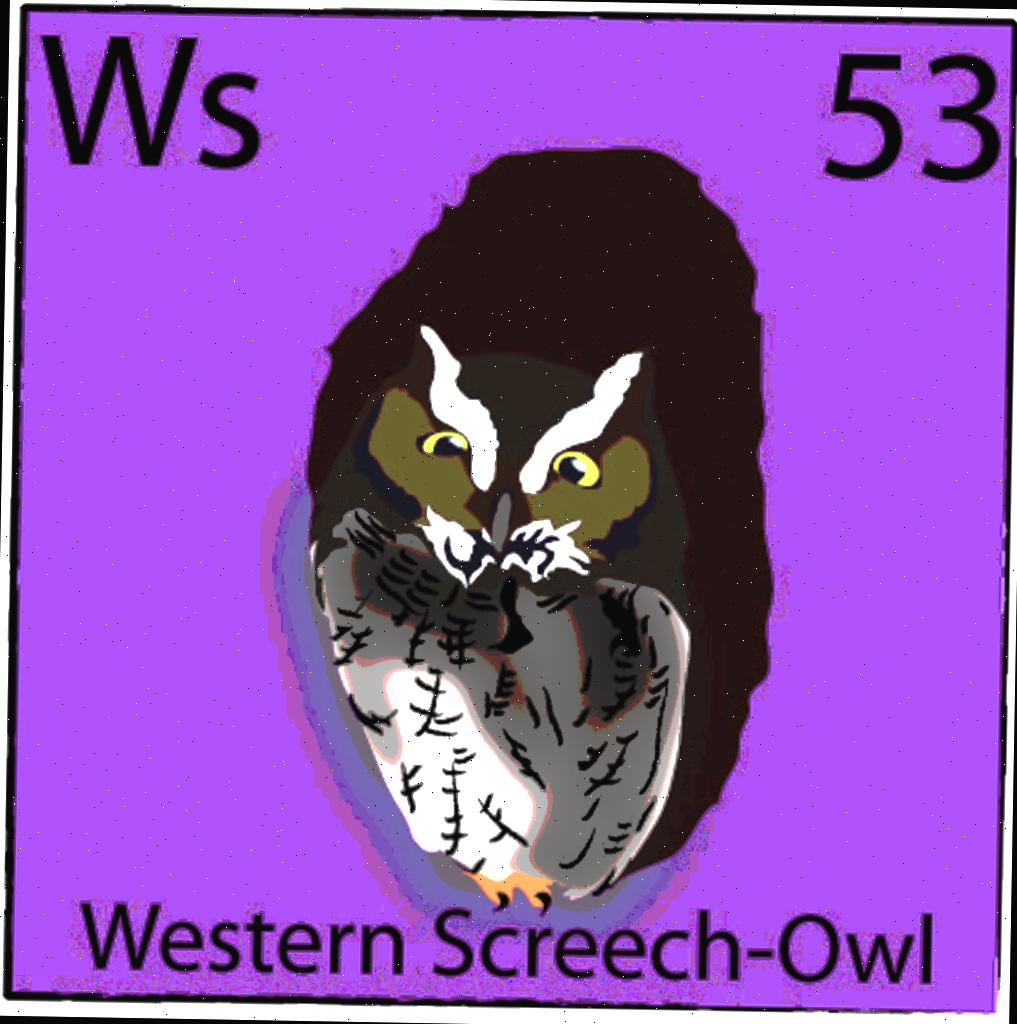Owl: (300, 298, 782, 904)
